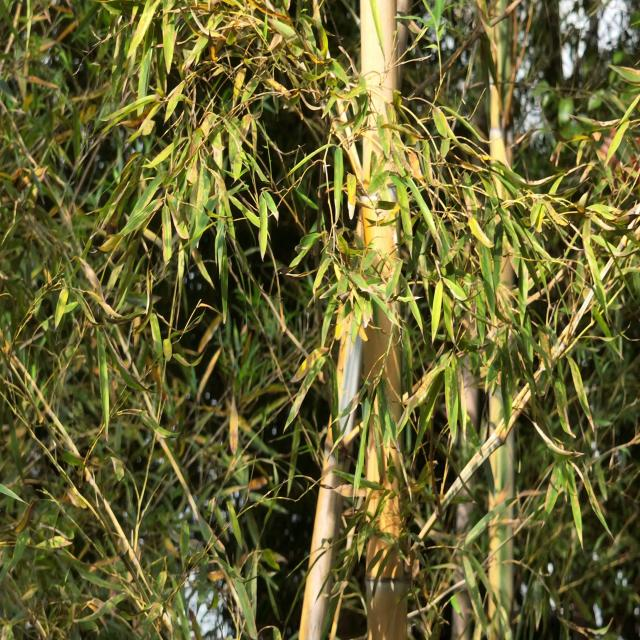Bamboo-shoots: (360, 0, 408, 640)
